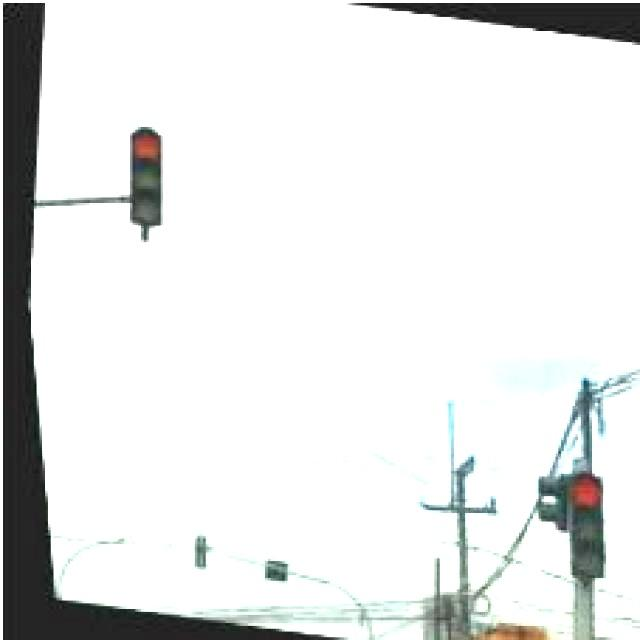Red: (124, 122, 168, 235), (568, 462, 608, 580)
